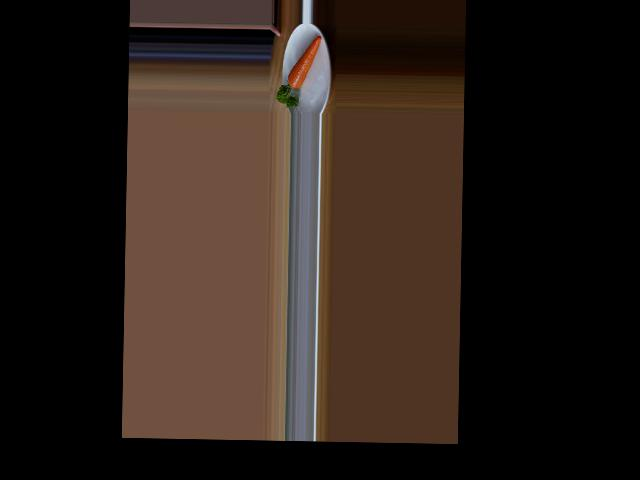carrot: (284, 32, 321, 94)
